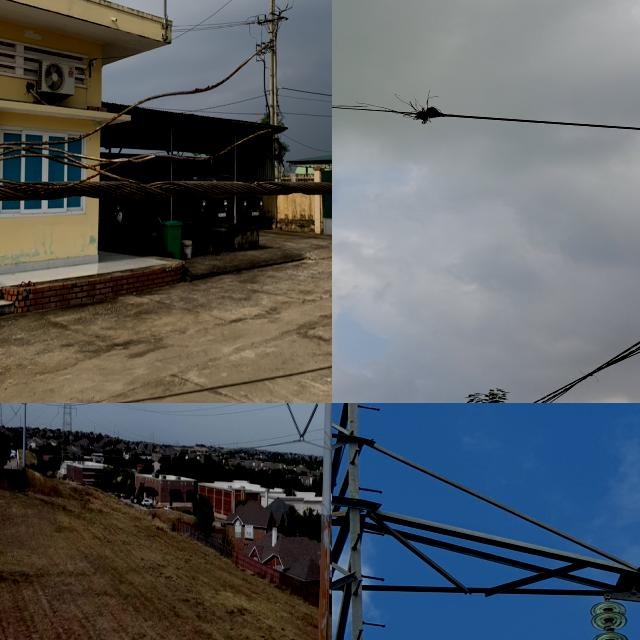杆塔: (332, 403, 640, 640), (53, 403, 82, 479)
正常绝缘子: (587, 587, 635, 640), (285, 403, 307, 443), (297, 403, 319, 443)
电缆破损: (0, 48, 253, 210), (332, 76, 448, 128)
绝缘子破损: (604, 624, 616, 632)
